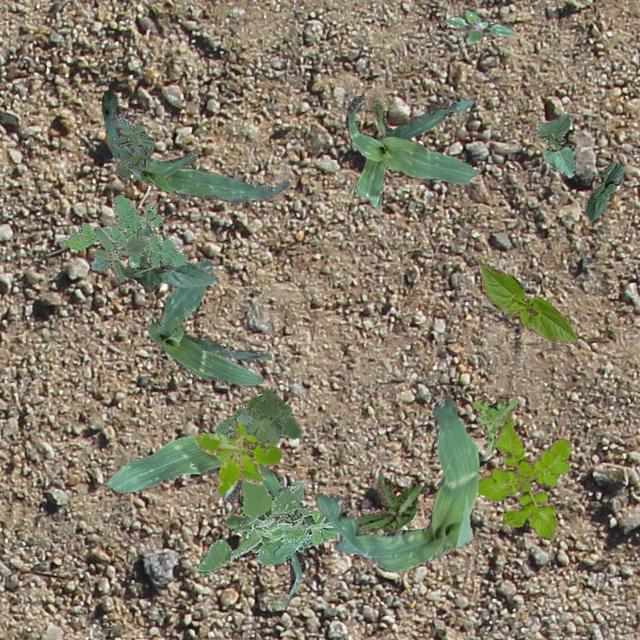crop: (105, 432, 304, 608), (314, 392, 478, 572), (100, 89, 288, 202), (148, 256, 270, 386), (344, 94, 480, 208), (480, 263, 576, 343), (120, 227, 216, 290), (534, 110, 574, 178), (584, 162, 622, 220)
weed: (195, 478, 338, 574), (476, 412, 570, 538), (56, 194, 186, 268), (194, 420, 280, 496), (214, 386, 300, 444), (354, 474, 420, 532), (90, 226, 146, 280), (110, 114, 154, 180), (471, 398, 518, 452), (444, 8, 514, 42), (140, 256, 146, 262)
